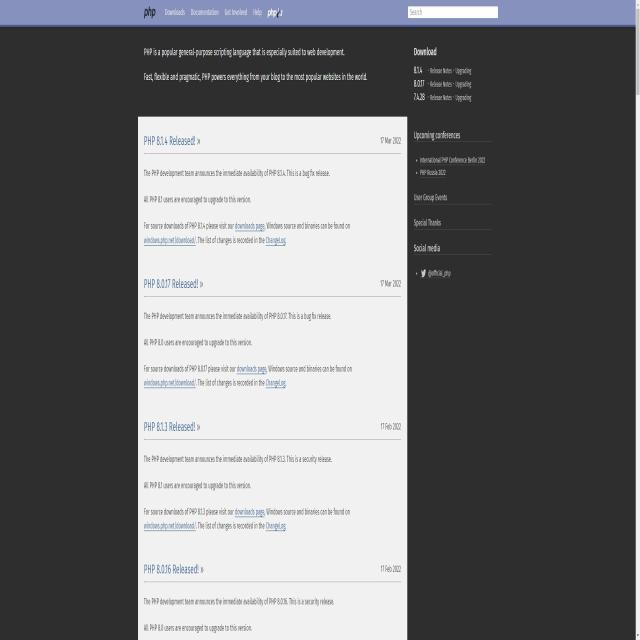search: (406, 5, 500, 20)
side-panel: (410, 40, 496, 289)
tab-bar: (140, 4, 286, 23)
